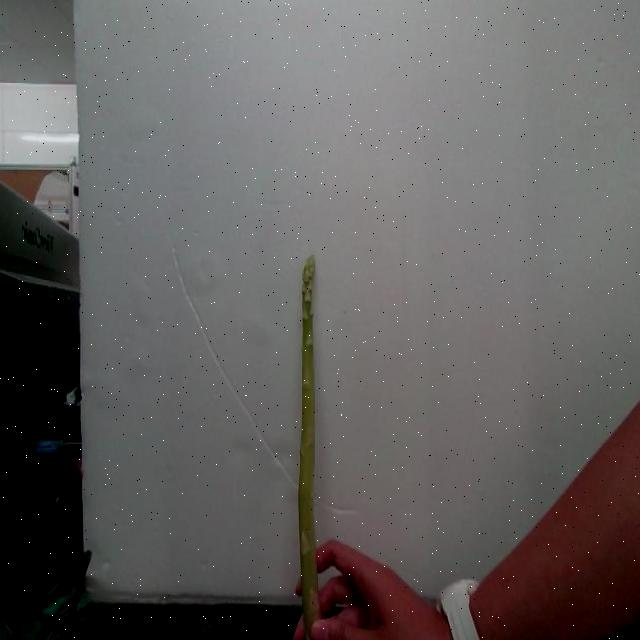aspargus: (295, 258, 318, 640)
